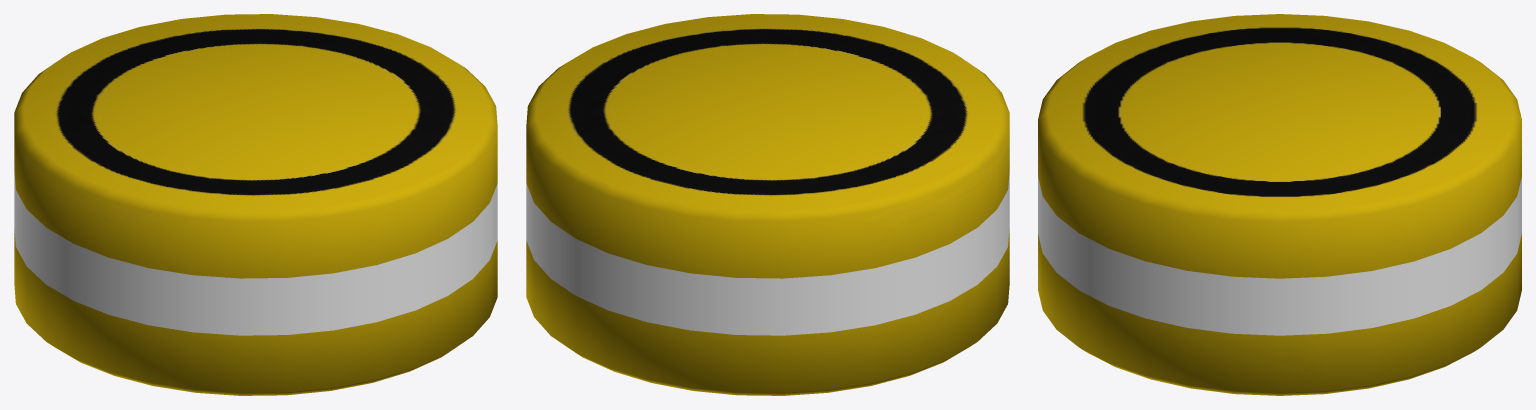
File: puck.glb
3 renders of one model, left to right at view 1: azimuth 30°, elevation 25°; view 2: azimuth 150°, elevation 25°; view 3: azimuth 270°, elevation 25°, orthographic.
Visible parts, largest first — view 1: puck.jpg__, gfxGlow_yellow_a.png__; view 2: puck.jpg__, gfxGlow_yellow_a.png__; view 3: puck.jpg__, gfxGlow_yellow_a.png__.
Boxes of the visible parts, x1=… form: puck.jpg__: x1=14, y1=14, x2=497, y2=395; gfxGlow_yellow_a.png__: x1=14, y1=172, x2=497, y2=335; puck.jpg__: x1=526, y1=14, x2=1009, y2=395; gfxGlow_yellow_a.png__: x1=526, y1=172, x2=1009, y2=335; puck.jpg__: x1=1038, y1=14, x2=1521, y2=395; gfxGlow_yellow_a.png__: x1=1038, y1=177, x2=1521, y2=335.
Size of the model in its own units: 1.79 by 0.7556 by 1.79.
2 materials, 1 textured.
